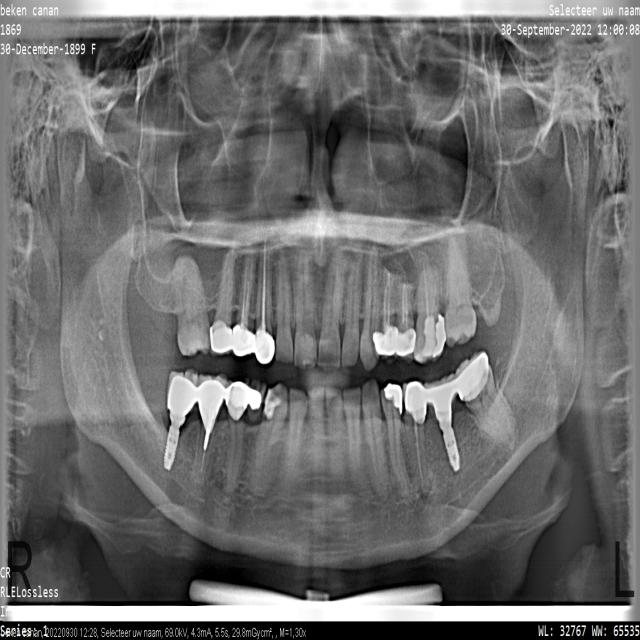Canine: (251, 384, 287, 493), (362, 381, 389, 500), (360, 245, 379, 372), (256, 227, 273, 358)
Incisores: (294, 247, 317, 369), (318, 250, 341, 372), (341, 252, 362, 366), (344, 388, 366, 488), (276, 248, 293, 363), (288, 388, 308, 479), (326, 387, 346, 474), (308, 386, 325, 484)
Premolars: (381, 389, 420, 499), (210, 242, 243, 355), (403, 383, 430, 496), (233, 236, 256, 354), (224, 381, 245, 494), (374, 265, 396, 363), (395, 281, 414, 363), (246, 378, 266, 422)
molars: (455, 351, 517, 452), (174, 254, 210, 356), (445, 236, 476, 348), (426, 375, 460, 471), (164, 370, 196, 470), (413, 250, 441, 363), (197, 375, 224, 449)
